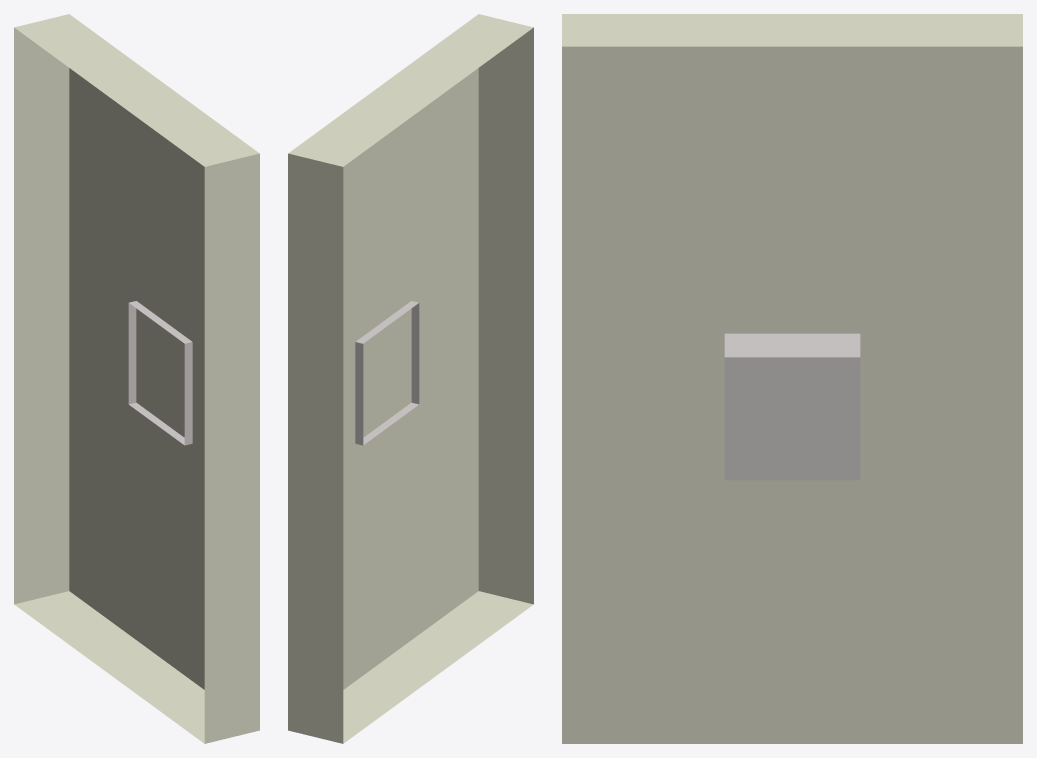
Rendered from SM_HOTEL_Elevator_call_up.fbx.
3 views of the same model, side by side, from view 1: azimuth 30°, elevation 25°; view 2: azimuth 150°, elevation 25°; view 3: azimuth 270°, elevation 25° (orthographic). The views are drawn at different scales.
Parts seen in each view (by area): view 1: SM_HOTEL_Elevator_call_up; view 2: SM_HOTEL_Elevator_call_up; view 3: SM_HOTEL_Elevator_call_up.
Boxes of the visible parts, left/top/right/bottom form: SM_HOTEL_Elevator_call_up: left=14, top=14, right=259, bottom=743; SM_HOTEL_Elevator_call_up: left=288, top=14, right=533, bottom=743; SM_HOTEL_Elevator_call_up: left=562, top=14, right=1022, bottom=743.
Size of the model in its own units: 17.23 by 100 by 59.87.
